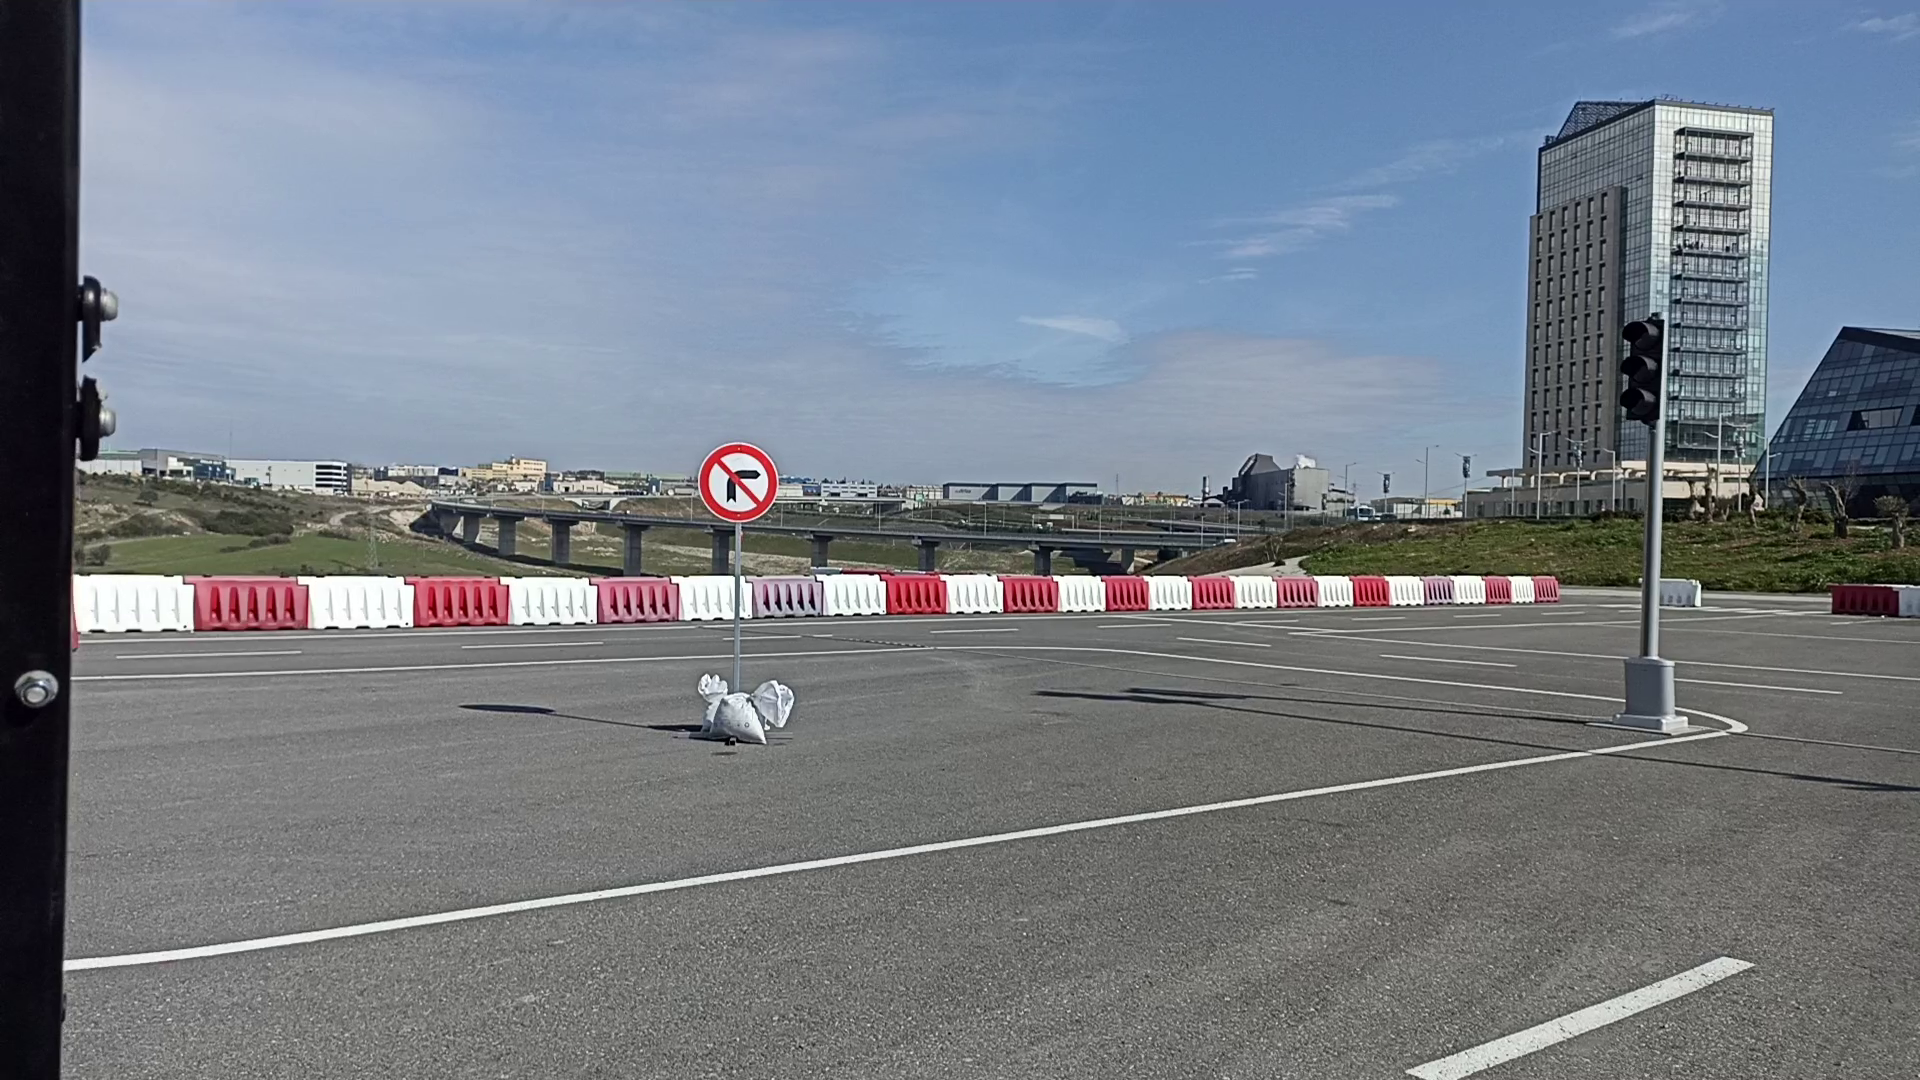noleftturn: (695, 439, 781, 524)
trafficlight: (1615, 313, 1669, 427)
